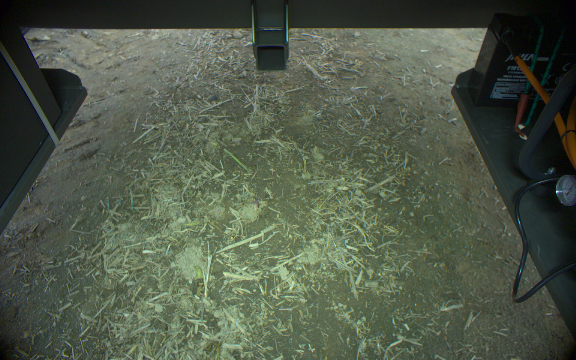aspa: (208, 140, 251, 174)
